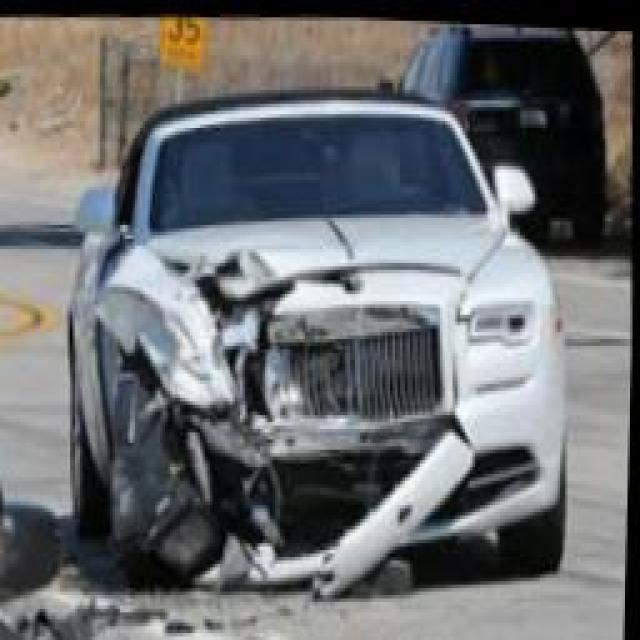Bonnet: (150, 202, 508, 403)
Bumper: (96, 245, 539, 595)
